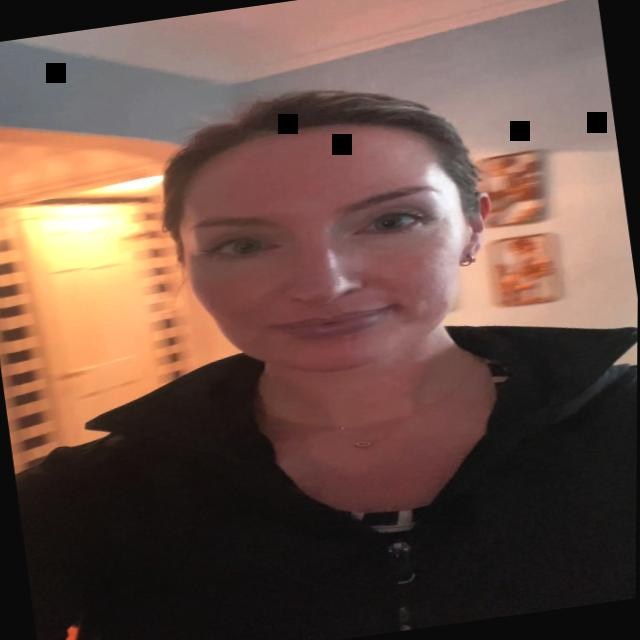NO-Mask: (145, 99, 510, 422)
